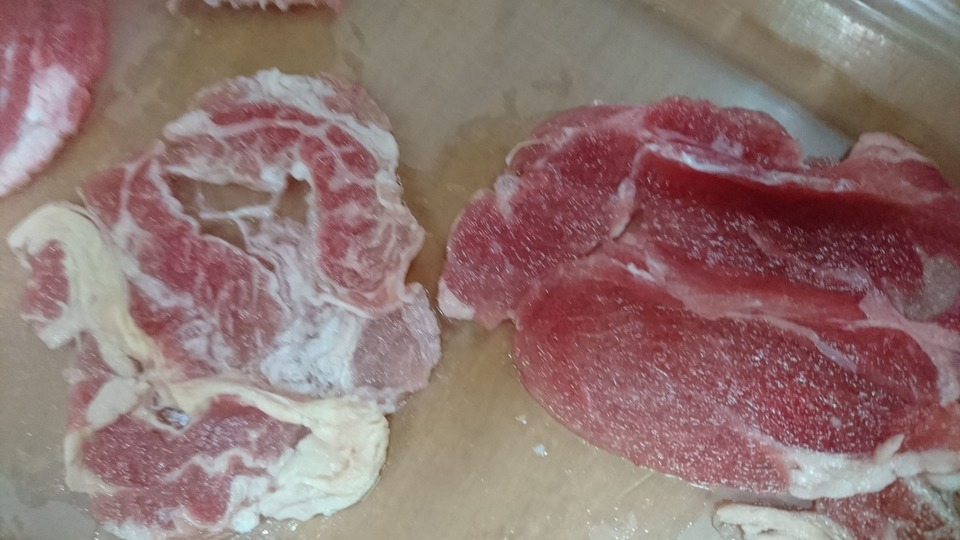restructured meat: (446, 74, 955, 534), (17, 111, 467, 540)
